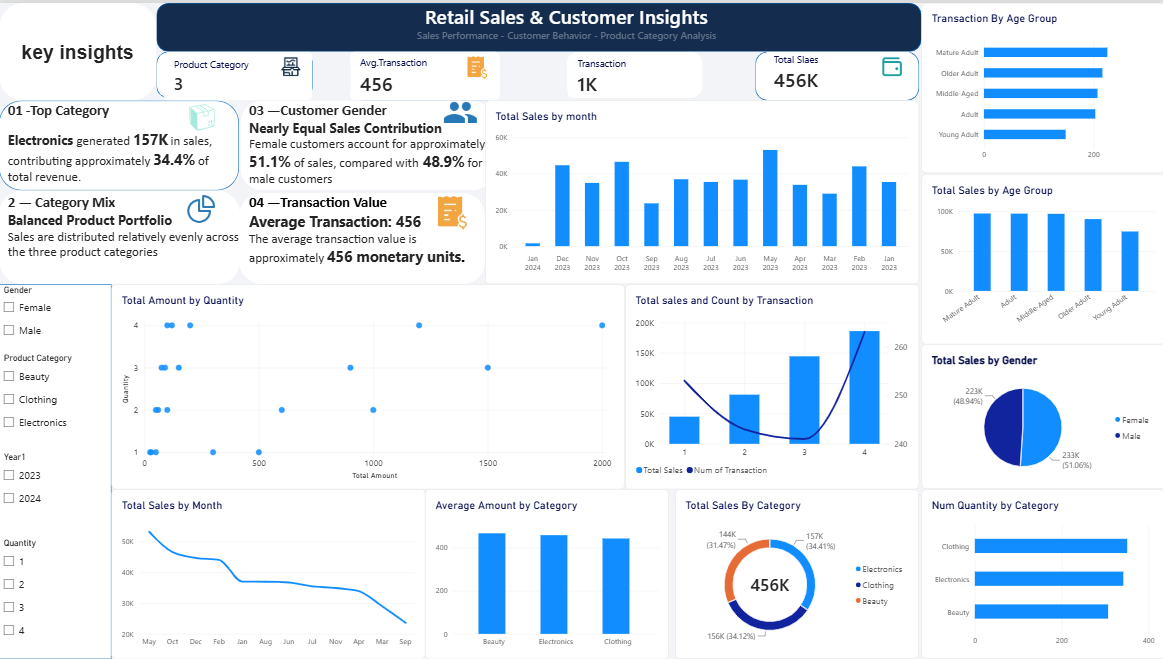

The dashboard page shown, as its layout file describes it:
{"tool":"powerbi","page":{"name":"Page 1","canvas":[1920,1080],"ordinal":0},"visuals":[{"type":"shape","box":[0,463.1,185.2,617.5],"z":0},{"type":"shape","box":[934.5,80.3,224.4,76.2],"z":1000},{"type":"shape","box":[0,0,259.3,160.5],"z":2000},{"type":"shape","box":[259.3,80.3,257.3,76.2],"z":3000},{"type":"shape","box":[397.3,160.5,417.8,148.2],"z":4000},{"type":"shape","box":[0,160.5,395.2,148.2],"z":5000},{"type":"shape","box":[0,308.7,397.3,154.4],"z":6000},{"type":"shape","box":[395.2,312.9,405.5,150.3],"z":7000},{"type":"shape","box":[578.4,80.3,244.9,80.3],"z":8000},{"type":"shape","box":[1245.3,80.3,269.6,80.3],"z":9000},{"type":"shape","box":[259.3,0,1259.7,80.3],"z":10000},{"type":"donutChart","title":"Total Sales By Category","fields":{"Category":["retail_sales_dataset.Product Category"],"Y":["Sum(retail_sales_dataset.Total Amount)"]},"box":[1113.6,800.7,401,279],"z":11000},{"type":"columnChart","title":"Total Sales by Age Group","fields":{"Category":["retail_sales_dataset.Age Group"],"Y":["Sum(retail_sales_dataset.Total Amount)"]},"box":[1519,282,401.4,279.9],"z":12000},{"type":"columnChart","title":"Total Sales by month ","fields":{"Category":["retail_sales_dataset.month year"],"Y":["Sum(retail_sales_dataset.Total Amount)"]},"box":[800.7,160.5,714.2,302.6],"z":13000},{"type":"cardVisual","fields":{"Data":["retail_sales_dataset.Avrage Transaction value"]},"box":[578.4,80.3,247,80.3],"z":14000},{"type":"cardVisual","fields":{"Data":["Sum(retail_sales_dataset.Total Amount)"]},"box":[1259.7,80.3,244.9,70],"z":15000},{"type":"lineStackedColumnComboChart","title":"Total sales  and Count by Transaction","fields":{"Category":["retail_sales_dataset.Quantity"],"Y":["Sum(retail_sales_dataset.Total Amount)"],"Y2":["CountNonNull(retail_sales_dataset.Transaction ID)"]},"box":[1031.2,463.1,483.7,337.6],"z":16000},{"type":"lineChart","title":" Total Sales by Month","fields":{"Category":["retail_sales_dataset.Month Name"],"Y":["Sum(retail_sales_dataset.Total Amount)"]},"box":[185.2,800.7,516.6,279.9],"z":17000},{"type":"slicer","fields":{"Values":["retail_sales_dataset.Gender"]},"box":[0,463.1,185.2,113.2],"z":18000},{"type":"slicer","fields":{"Values":["retail_sales_dataset.Product Category"]},"box":[0,576.3,185.2,164.7],"z":19000},{"type":"slicer","fields":{"Values":["retail_sales_dataset.Year1"]},"box":[0,738.9,185.2,142],"z":20000},{"type":"slicer","fields":{"Values":["retail_sales_dataset.Quantity"]},"box":[0,881,185.2,199.7],"z":21000},{"type":"pieChart","title":"Total Sales by Gender","fields":{"Category":["retail_sales_dataset.Gender"],"Y":["Sum(retail_sales_dataset.Total Amount)"]},"box":[1519,561.9,401.4,238.8],"z":22000},{"type":"cardVisual","fields":{"Data":["CountNonNull(retail_sales_dataset.Transaction ID)"]},"box":[936.5,86.4,166.7,70],"z":23000},{"type":"barChart","title":"Transaction By Age Group","fields":{"Category":["retail_sales_dataset.Age Group"],"Y":["CountNonNull(retail_sales_dataset.Transaction ID)"]},"box":[1519,0,401,279.9],"z":24000},{"type":"columnChart","title":"Average Amount by  Category","fields":{"Category":["retail_sales_dataset.Product Category"],"Y":["Avg(retail_sales_dataset.Total Amount)"]},"box":[701.9,800.7,401,279.9],"z":25000},{"type":"scatterChart","title":"Total Amount by Quantity","fields":{"X":["retail_sales_dataset.Total Amount"],"Y":["retail_sales_dataset.Quantity"]},"box":[185.2,463.1,846,337.6],"z":26000},{"type":"barChart","title":"Num Quantity by Category","fields":{"Category":["retail_sales_dataset.Product Category"],"Y":["CountNonNull(retail_sales_dataset.Quantity)"]},"box":[1519,800.7,401,279],"z":27000},{"type":"textbox","box":[349.9,0,1169.1,96.7],"z":28000},{"type":"cardVisual","fields":{"Data":["Count(retail_sales_dataset.Product Category)"]},"box":[271.7,80.3,244.9,80.3],"z":29000},{"type":"textbox","box":[411.7,312.9,389,150.3],"z":30000},{"type":"textbox","box":[14.4,312.9,380.8,150.3],"z":31000},{"type":"textbox","box":[411.7,160.5,389,148.2],"z":32000},{"type":"textbox","box":[14.4,160.5,358.1,148.2],"z":33000},{"type":"textbox","box":[0,63.8,259.3,51.5],"z":34000},{"type":"image","box":[1436.7,80.3,67.9,49.4],"z":35000},{"type":"image","box":[743.1,84.4,84.4,41.2],"z":36000},{"type":"image","box":[708.1,312.9,70,59.7],"z":37000},{"type":"image","box":[269.6,312.9,125.6,53.5],"z":38000},{"type":"image","box":[691.6,150.3,135.8,59.7],"z":39000},{"type":"image","box":[444.6,88.5,72,32.9],"z":40000},{"type":"image","box":[306.7,160.5,53.5,55.6],"z":41000}]}

Visuals, with their boxes in screenshot pixels (x1, y1, x2, y2), scaled from the page's 1920x1080 canvas onto the 1163x659 screenshot:
shape: x1=0 y1=283 x2=112 y2=658
shape: x1=566 y1=49 x2=702 y2=95
shape: x1=0 y1=0 x2=157 y2=98
shape: x1=157 y1=49 x2=313 y2=95
shape: x1=241 y1=98 x2=494 y2=188
shape: x1=0 y1=98 x2=239 y2=188
shape: x1=0 y1=188 x2=241 y2=283
shape: x1=239 y1=191 x2=485 y2=283
shape: x1=350 y1=49 x2=499 y2=98
shape: x1=754 y1=49 x2=918 y2=98
shape: x1=157 y1=0 x2=920 y2=49
"Total Sales By Category" donutChart: x1=675 y1=489 x2=917 y2=658
"Total Sales by Age Group" columnChart: x1=920 y1=172 x2=1162 y2=343
"Total Sales by month " columnChart: x1=485 y1=98 x2=918 y2=283
cardVisual - retail_sales_dataset.Avrage Transaction value: x1=350 y1=49 x2=500 y2=98
cardVisual - Sum(retail_sales_dataset.Total Amount): x1=763 y1=49 x2=911 y2=92
"Total sales  and Count by Transaction" lineStackedColumnComboChart: x1=625 y1=283 x2=918 y2=489
" Total Sales by Month" lineChart: x1=112 y1=489 x2=425 y2=658
slicer - retail_sales_dataset.Gender: x1=0 y1=283 x2=112 y2=352
slicer - retail_sales_dataset.Product Category: x1=0 y1=352 x2=112 y2=452
slicer - retail_sales_dataset.Year1: x1=0 y1=451 x2=112 y2=538
slicer - retail_sales_dataset.Quantity: x1=0 y1=538 x2=112 y2=658
"Total Sales by Gender" pieChart: x1=920 y1=343 x2=1162 y2=489
cardVisual - CountNonNull(retail_sales_dataset.Transaction ID): x1=567 y1=53 x2=668 y2=95
"Transaction By Age Group" barChart: x1=920 y1=0 x2=1162 y2=171
"Average Amount by  Category" columnChart: x1=425 y1=489 x2=668 y2=658
"Total Amount by Quantity" scatterChart: x1=112 y1=283 x2=625 y2=489
"Num Quantity by Category" barChart: x1=920 y1=489 x2=1162 y2=658
textbox: x1=212 y1=0 x2=920 y2=59
cardVisual - Count(retail_sales_dataset.Product Category): x1=165 y1=49 x2=313 y2=98
textbox: x1=249 y1=191 x2=485 y2=283
textbox: x1=9 y1=191 x2=239 y2=283
textbox: x1=249 y1=98 x2=485 y2=188
textbox: x1=9 y1=98 x2=226 y2=188
textbox: x1=0 y1=39 x2=157 y2=70
image: x1=870 y1=49 x2=911 y2=79
image: x1=450 y1=51 x2=501 y2=77
image: x1=429 y1=191 x2=471 y2=227
image: x1=163 y1=191 x2=239 y2=224
image: x1=419 y1=92 x2=501 y2=128
image: x1=269 y1=54 x2=313 y2=74
image: x1=186 y1=98 x2=218 y2=132
